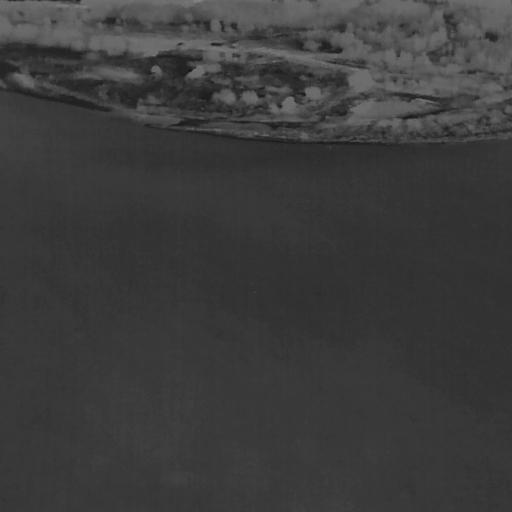uav: (250, 287, 258, 296)
